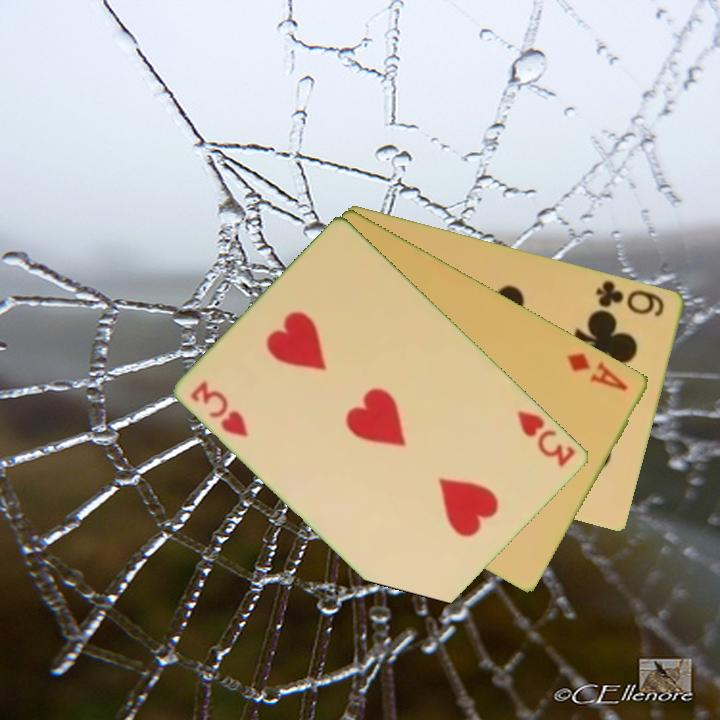3h: (514, 407, 580, 470), (187, 377, 252, 440)
6c: (592, 276, 668, 320)
Ad: (563, 348, 631, 394)
